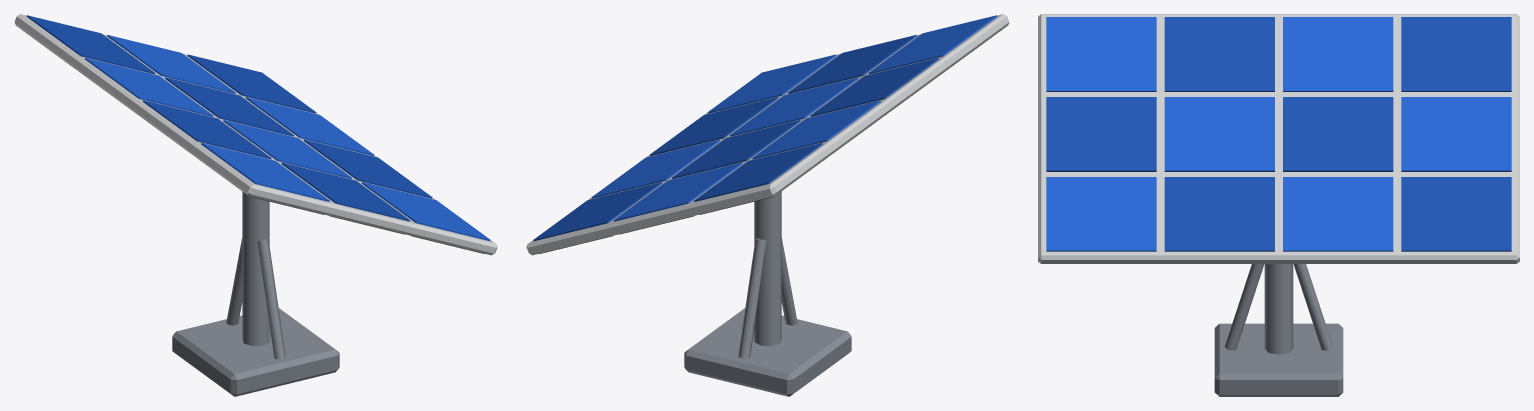
Rendered from solar.glb.
The picture shows the model from 3 angles, left to right: view 1: azimuth 30°, elevation 25°; view 2: azimuth 150°, elevation 25°; view 3: azimuth 270°, elevation 25°; orthographic projection.
Visible parts, largest first — view 1: Body; view 2: Body; view 3: Body.
Boxes of the visible parts, box(x1,y1,x2,y2) form: Body: box(14, 14, 497, 396); Body: box(526, 14, 1009, 396); Body: box(1038, 14, 1519, 396).
Size of the model in its own units: 1.83 by 2.05 by 3.
